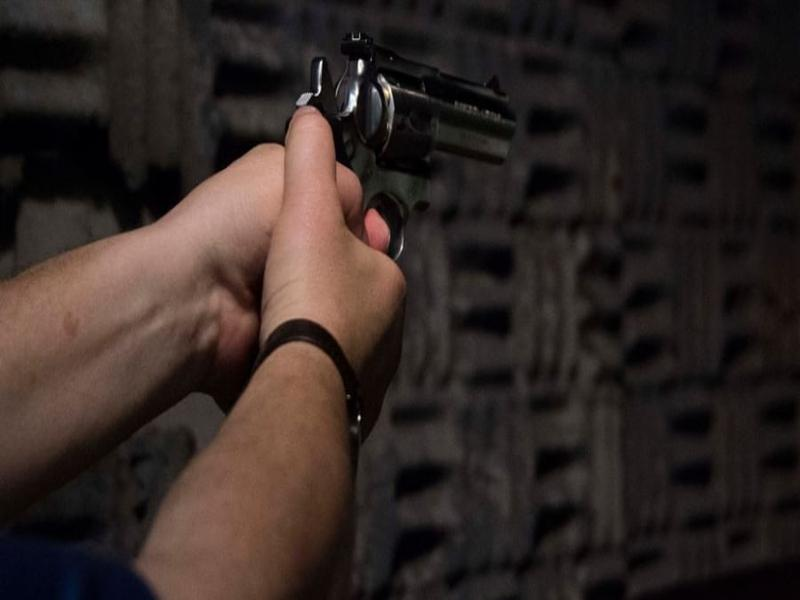Revolver: (282, 9, 526, 262)
